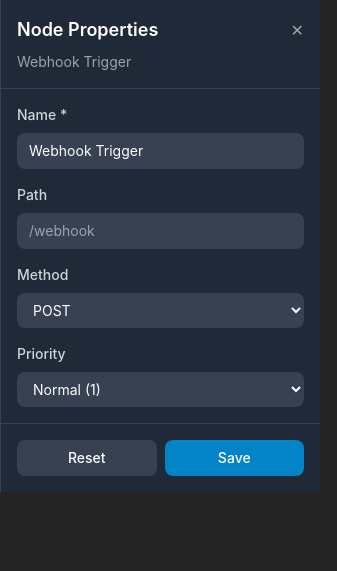
Test: PropertyPanel › Save functionality › should show success message after save
Click the button "Save" at point(234, 458), box [164,440,304,476]
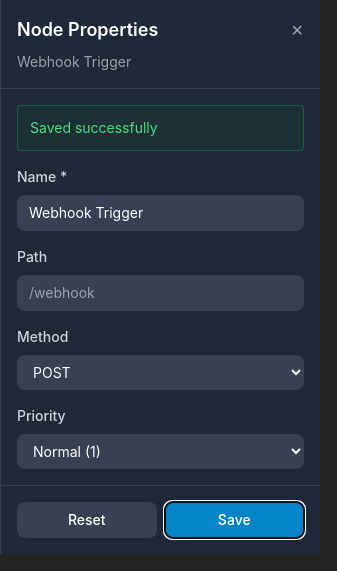
Now the text "Saved successfully" is shown, box [17,105,304,151]
